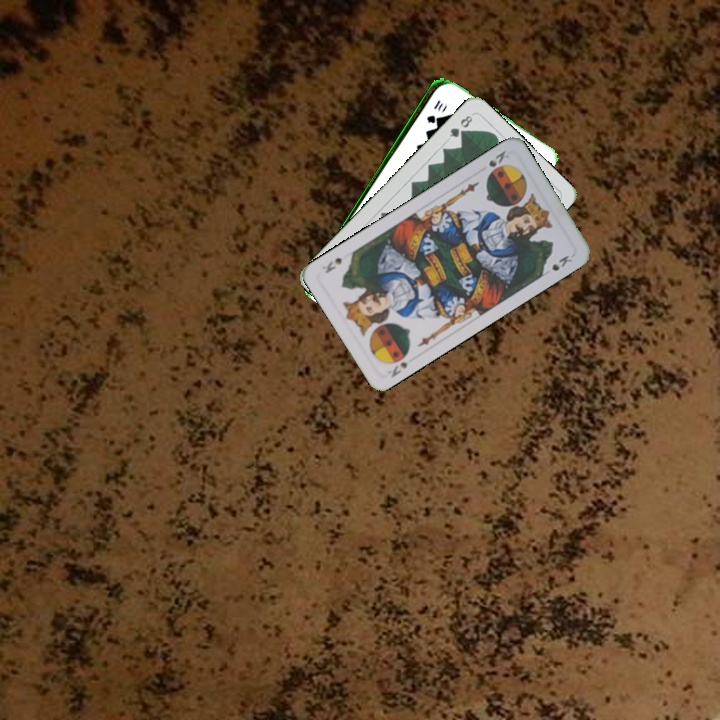G10: (422, 96, 443, 125)
G8: (445, 110, 476, 140)
SK: (383, 352, 418, 380), (485, 146, 512, 170)
